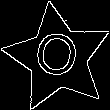O_S: (32, 29, 83, 87)
